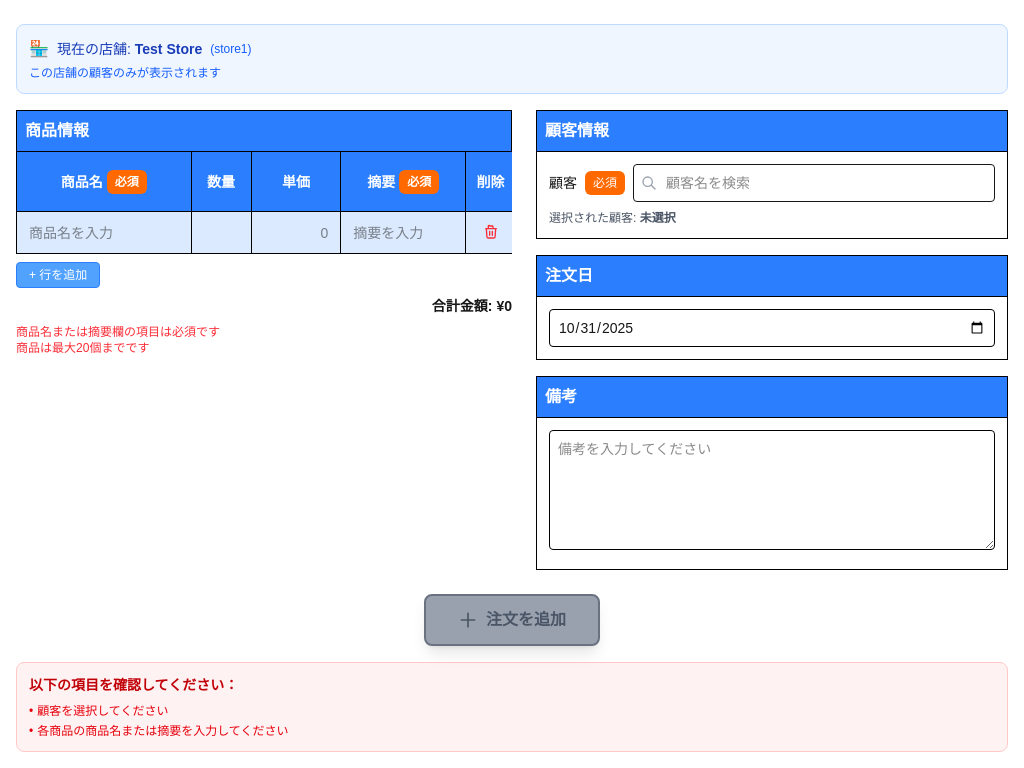
Test: OrderAddPage › shows delete confirmation modal when delete button is clicked
Add second product first
Click the button "+ 行を追加": click(58, 275) [16,262,100,288]
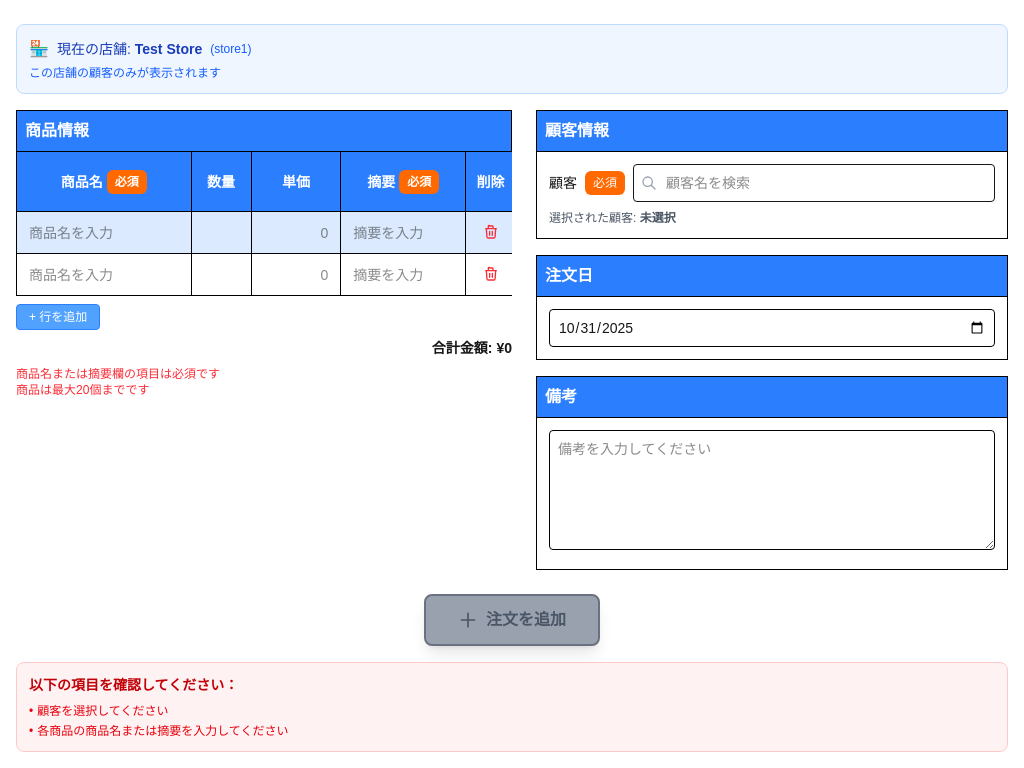
Now the number of buttons titled "この行を削除" is 2, box [478,220,502,244]; [478,262,502,286]
Add product name for better identification
In the 1st field with placeholder "商品名を入力": (104, 232) [25,218,183,246], type "Test Product"
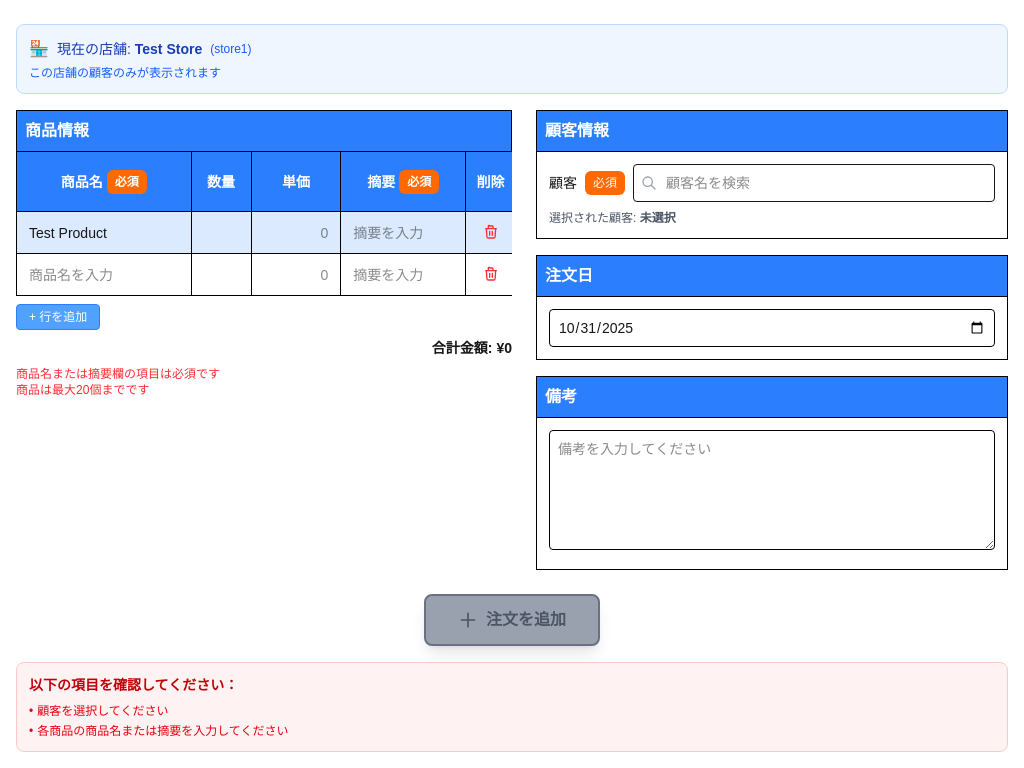
Click delete button
Click the 1st button titled "この行を削除": click(490, 232) [478,220,502,244]
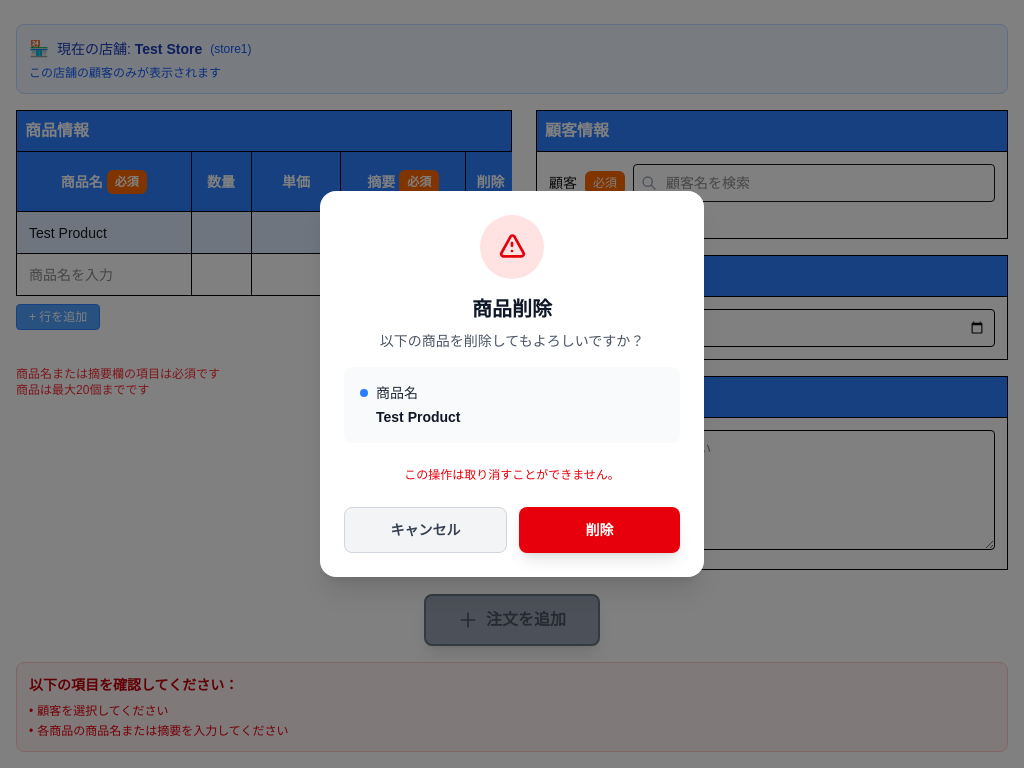
Now the heading "商品削除" is shown, box [472,298,552,320]
Now the text "以下の商品を削除してもよろしいですか？" is shown, box [380,333,644,349]
